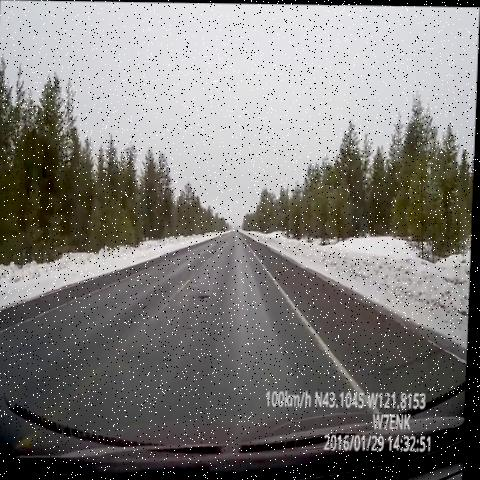pothole: (194, 292, 220, 307)
